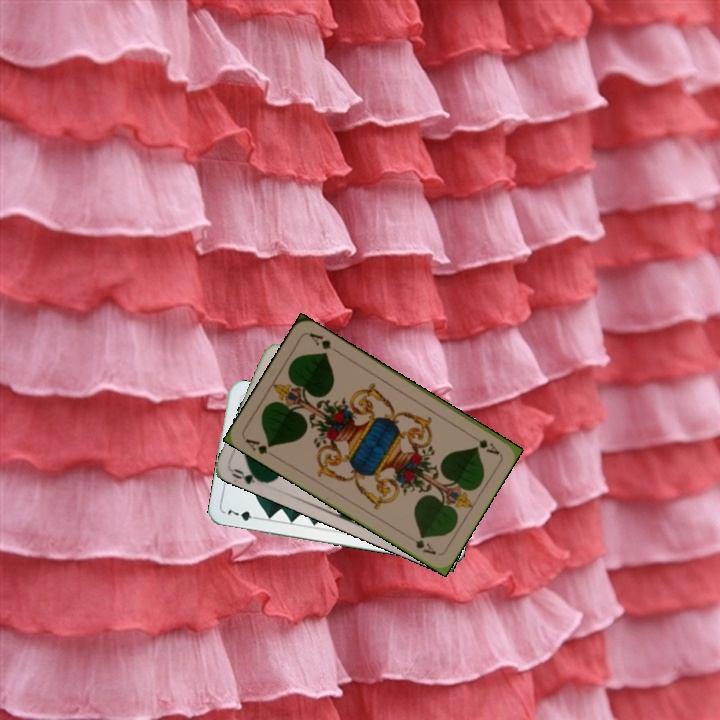G7: (223, 505, 263, 524)
GA: (465, 430, 502, 457), (241, 434, 274, 457)
GO: (227, 464, 268, 486)
